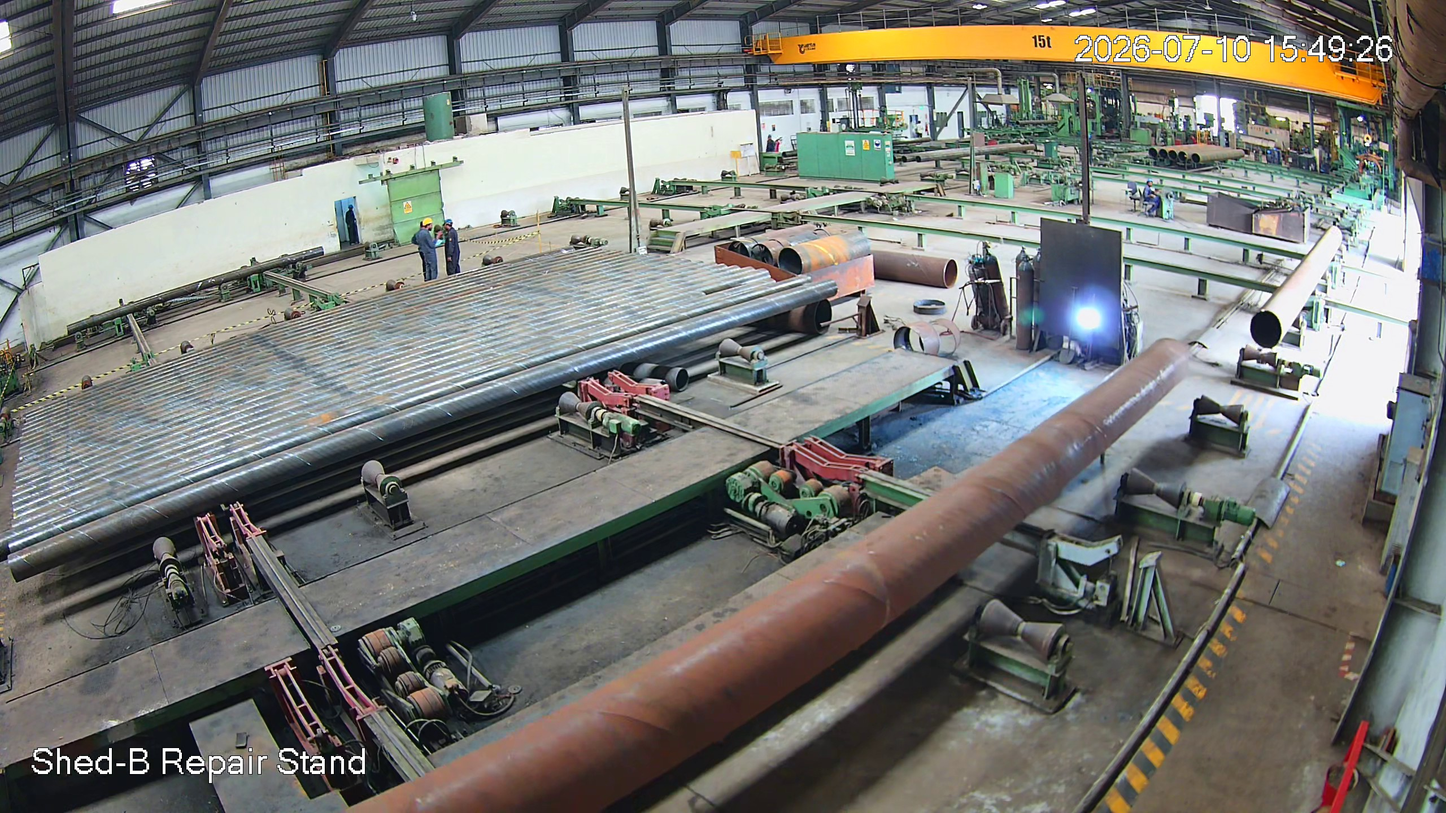Helmet: (421, 216, 438, 237), (443, 218, 457, 233)
Person: (416, 219, 443, 283), (443, 219, 463, 275)
